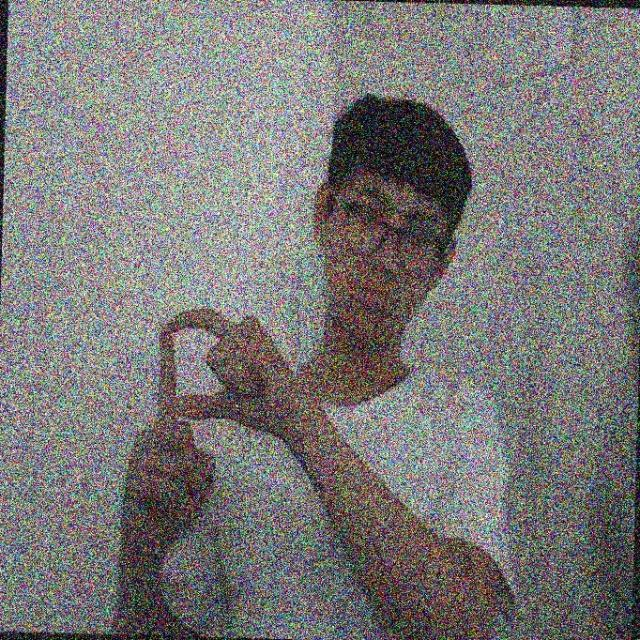D: (135, 301, 272, 474)
